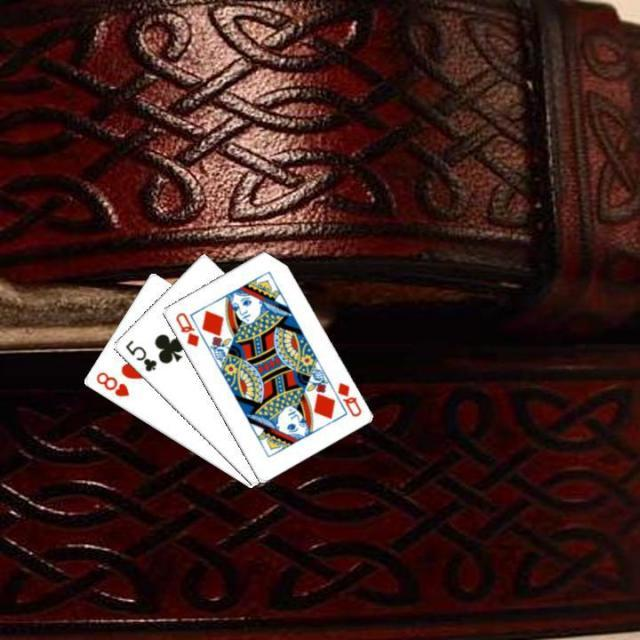5C: (121, 336, 159, 374)
8H: (92, 368, 131, 399)
QD: (171, 309, 201, 349), (333, 379, 363, 419)
